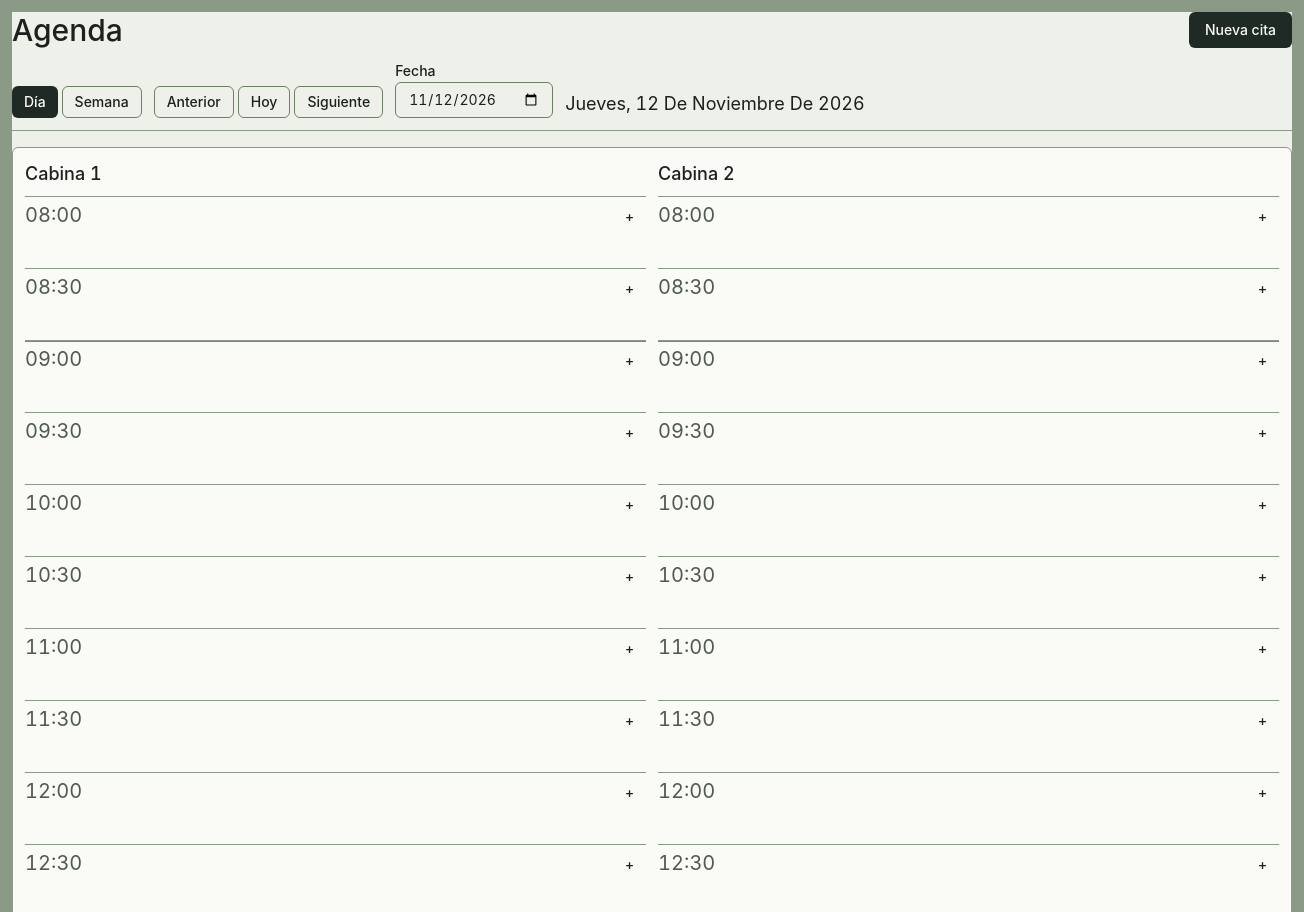
Test: AppointmentsPage › Siguiente muestra las citas del día siguiente y Hoy regresa
Click the button "Siguiente" at (339, 102), box [294,86,383,118]
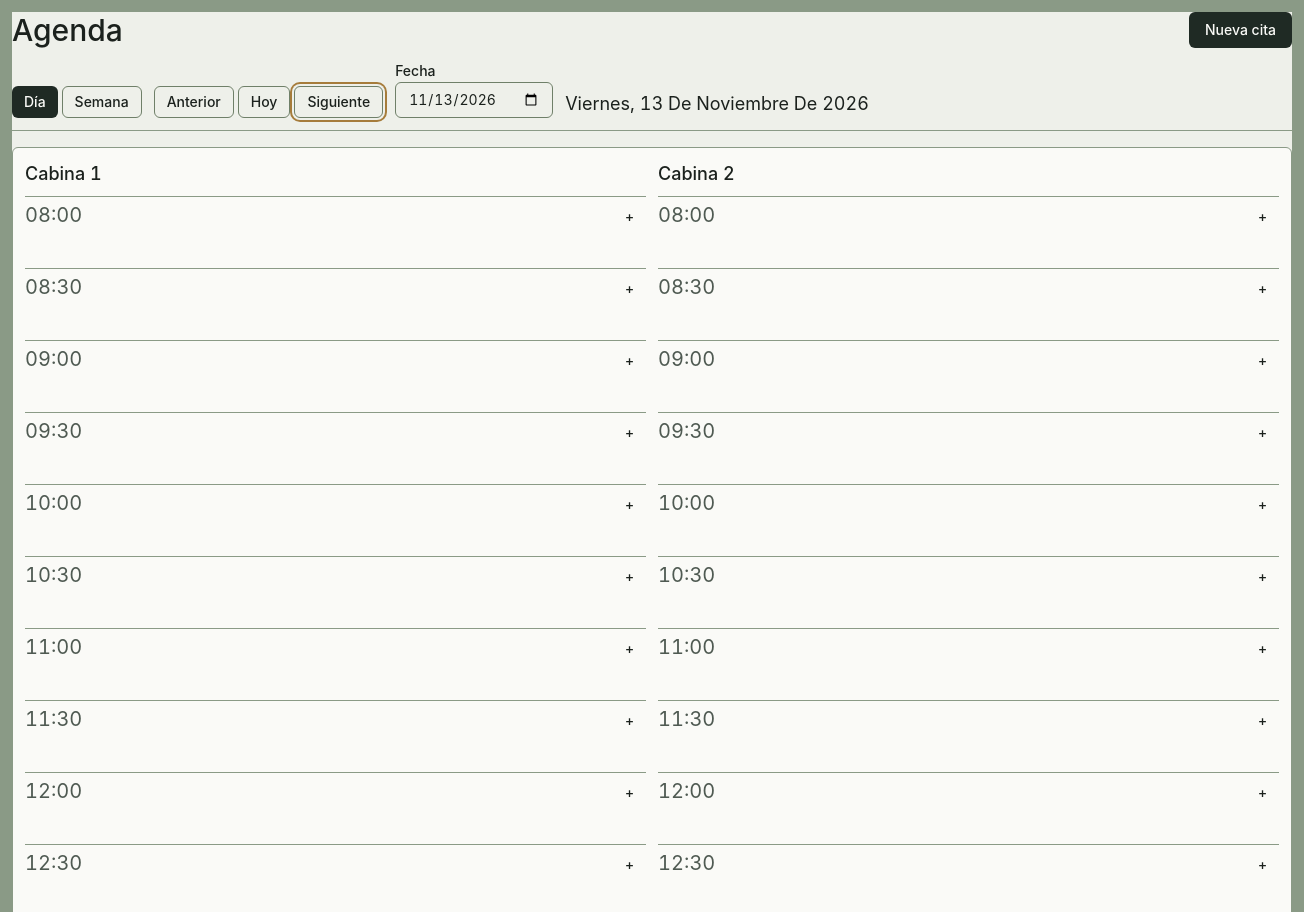
Expected: the date field labelled "Fecha" holds "2026-11-13", [395,82,553,118]
Click the button "Hoy" at (264, 102), box [238,86,290,118]
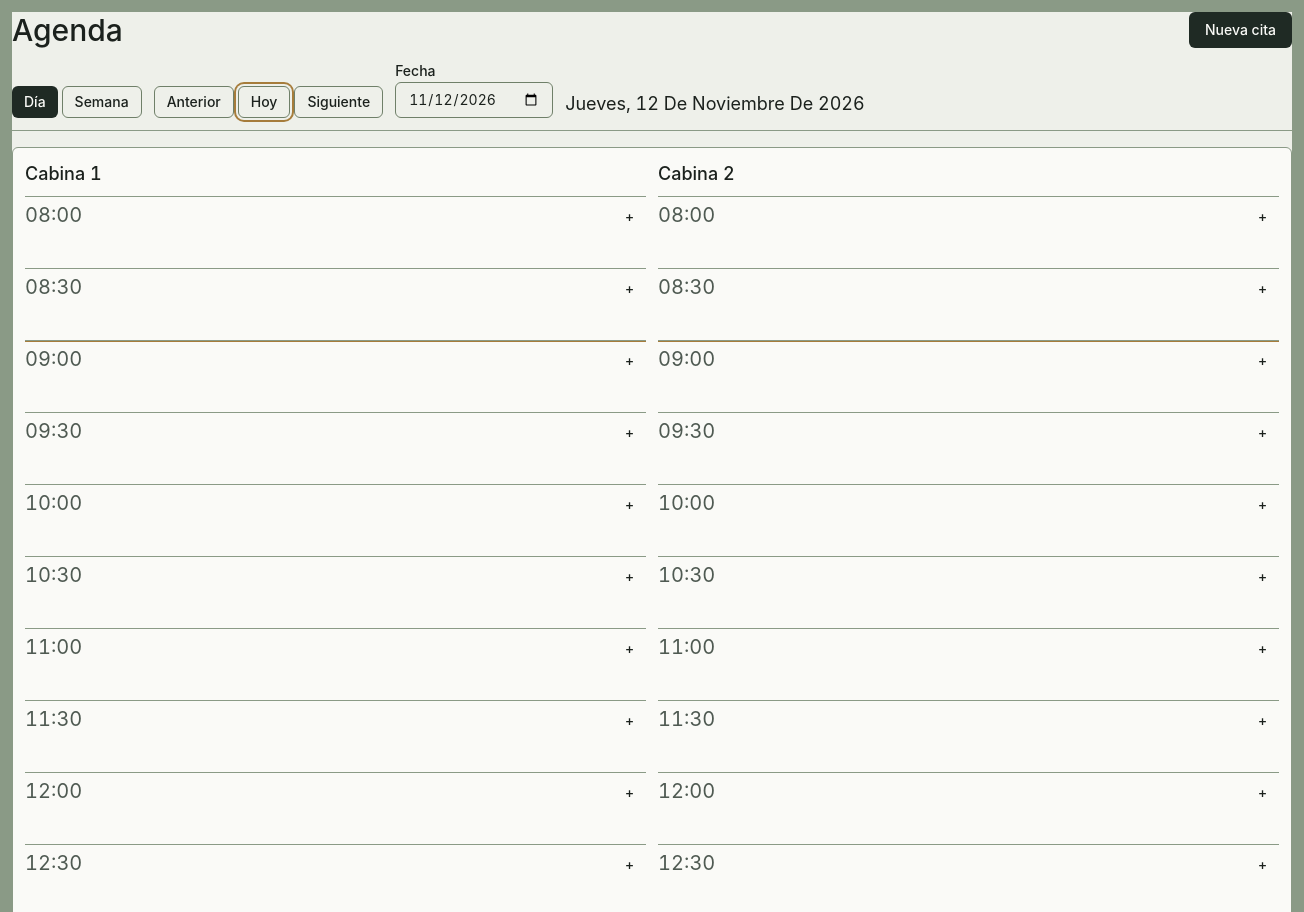
Expected: the date field labelled "Fecha" holds "2026-11-12", [395,82,553,118]
